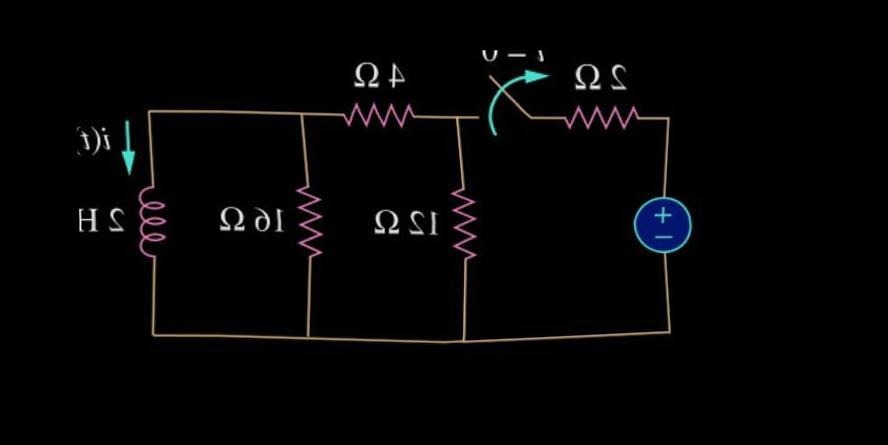Battery: (617, 176, 712, 271)
